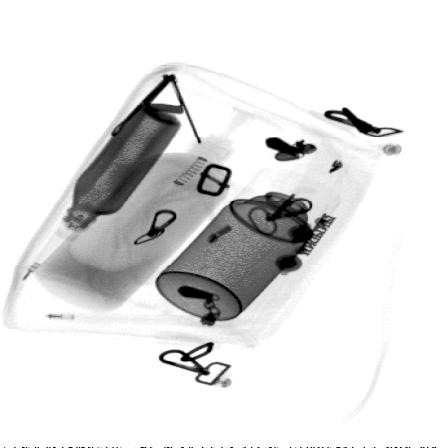Sprayer: (152, 167, 344, 322)
